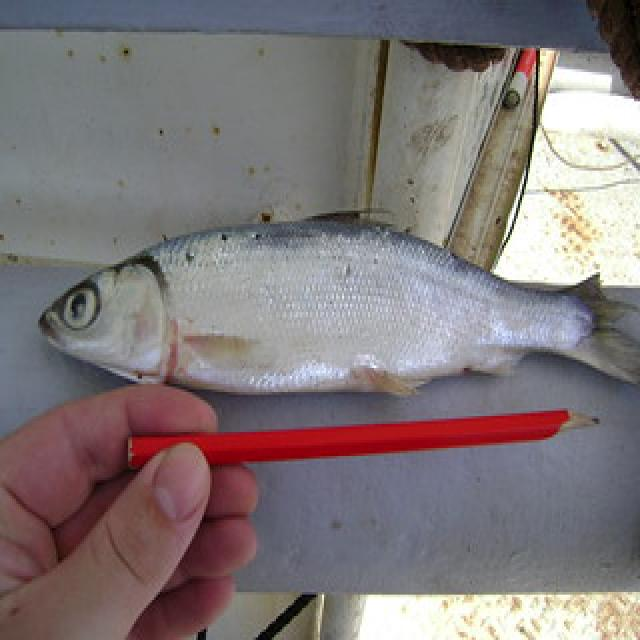Bangus: (14, 160, 636, 398)
